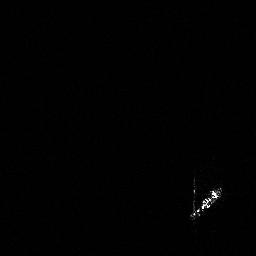ship: (187, 176, 224, 223)
